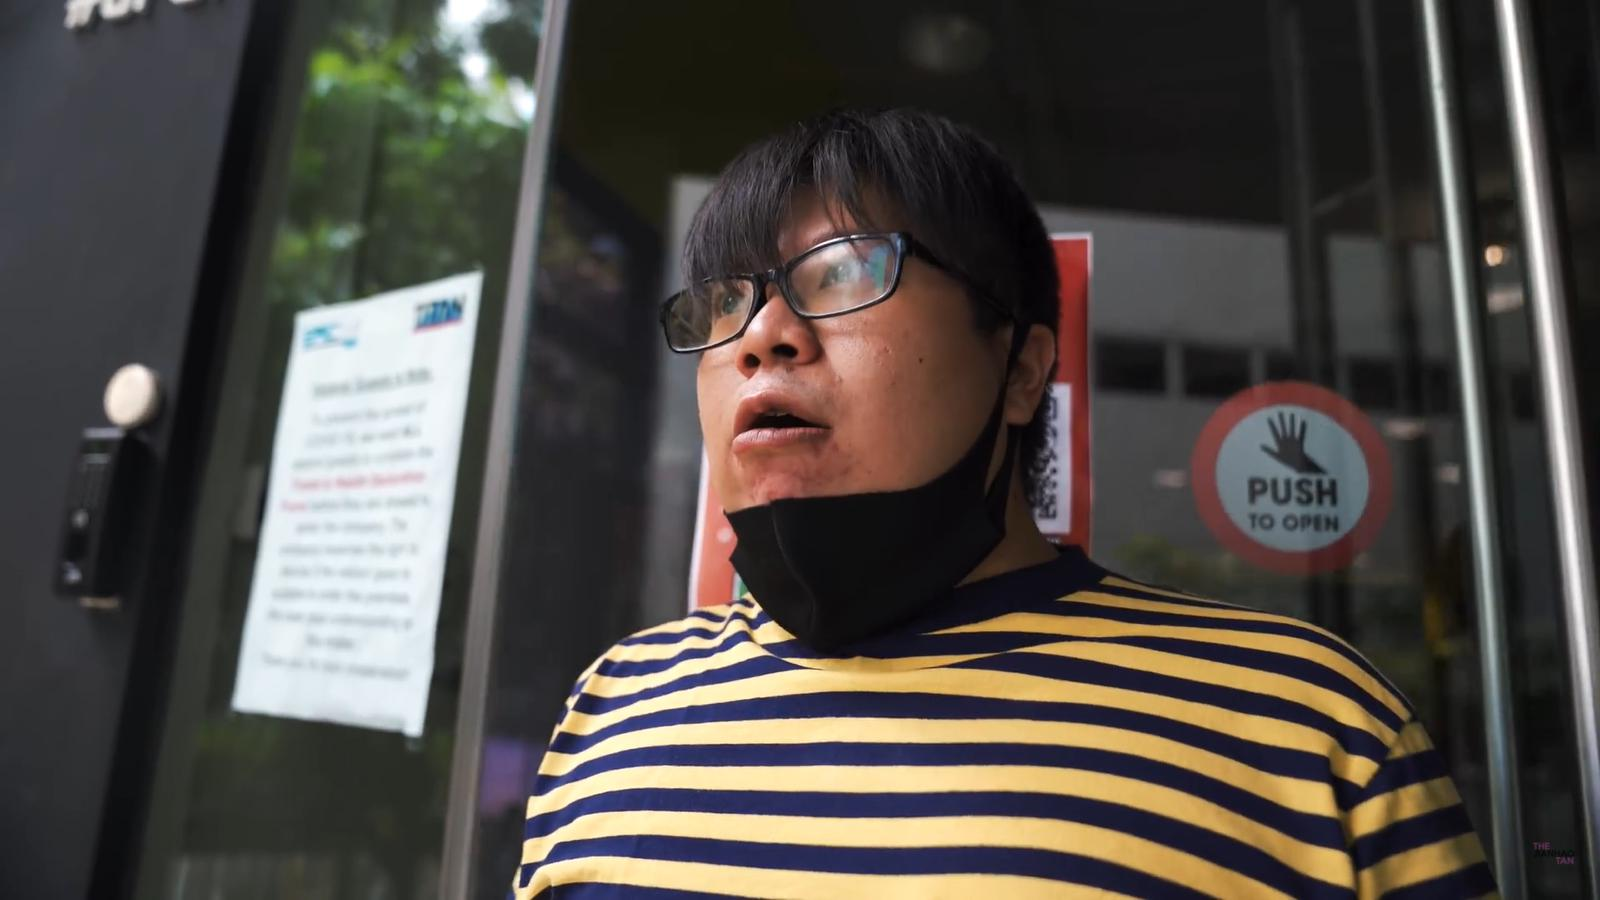with_incorrect_mask: (717, 235, 959, 527)
